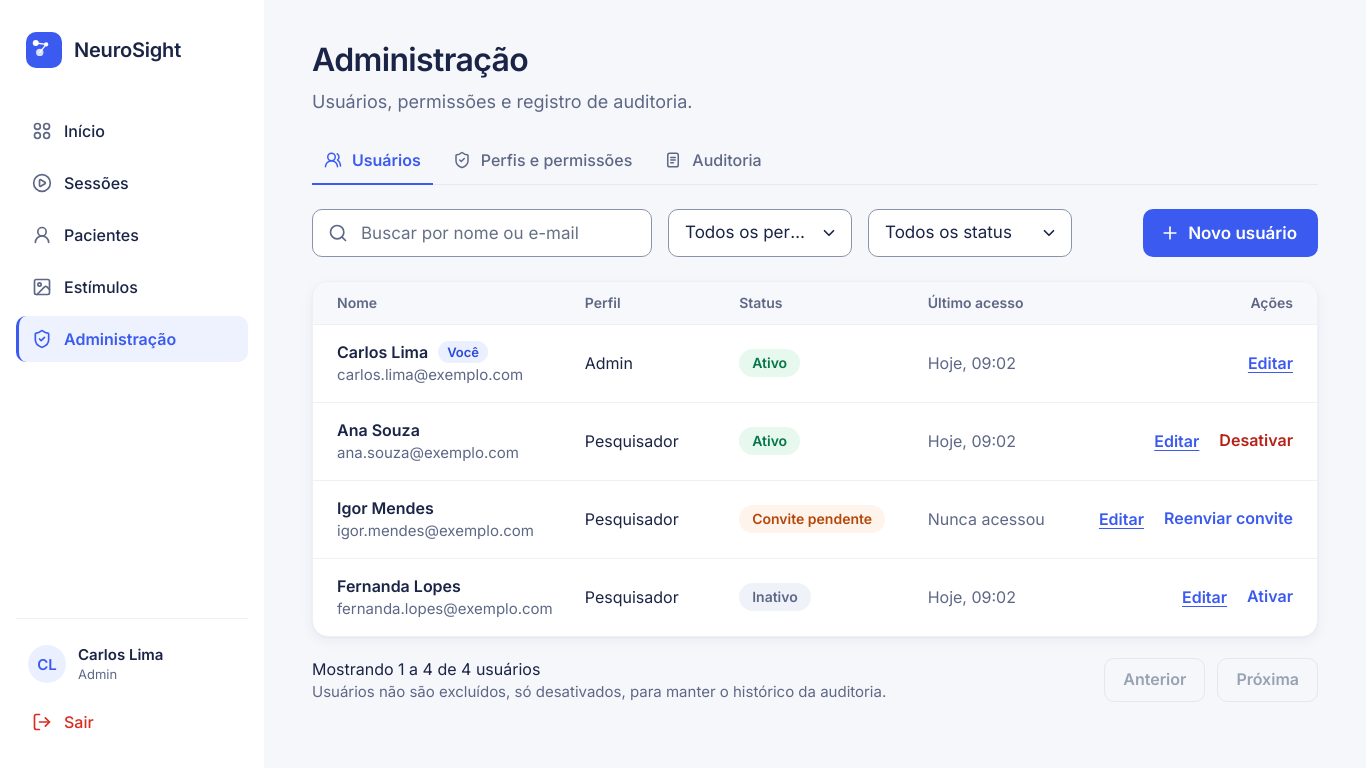
Scenario: W19 Lista de usuários › sem e-mail, o reenvio do convite mostra o link para copiar
Click the button "Reenviar convite" at (1228, 519), box [1164,509,1293,529]
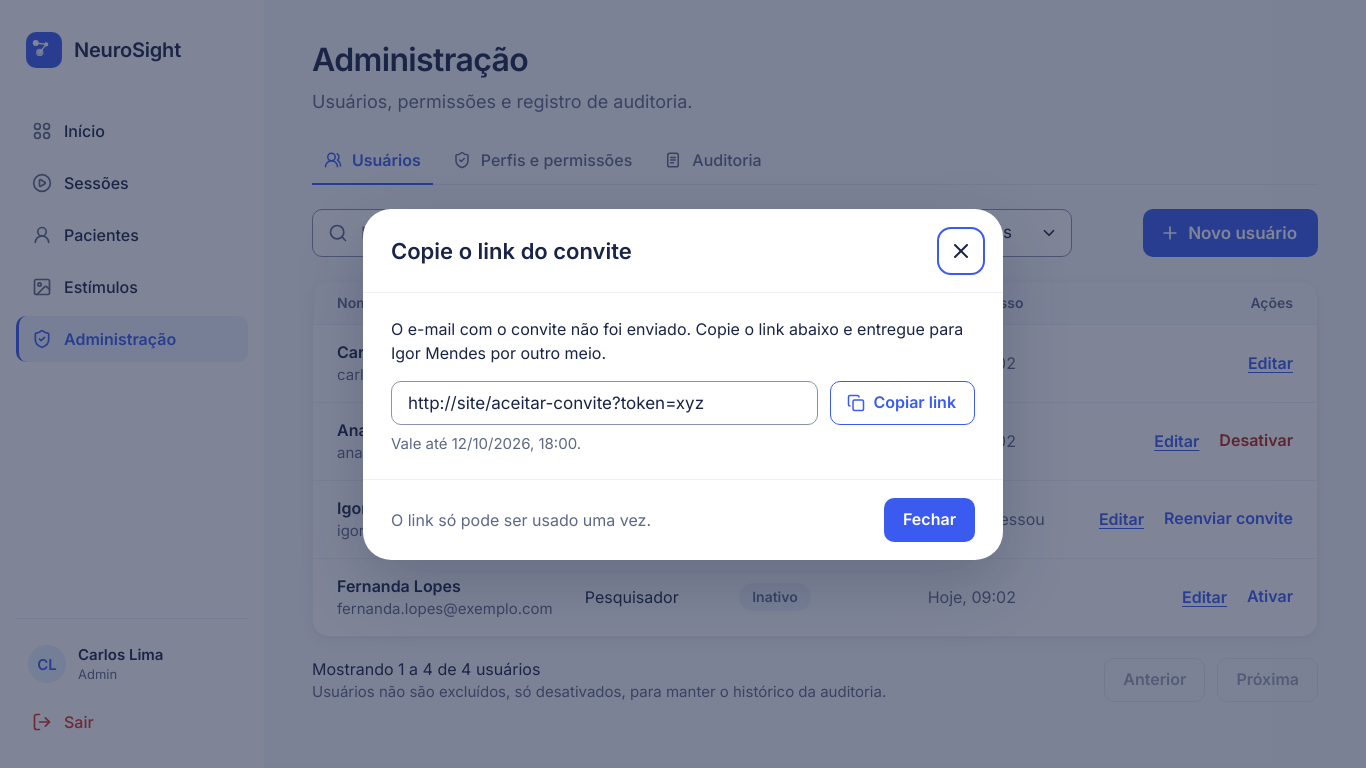
Expected: the field named "Link" holds "http://site/aceitar-convite?token=xyz", [391,380,818,424]
Expected: the dialog "Copie o link do convite" shows "entregue para Igor Mendes", [363,208,1003,560]
